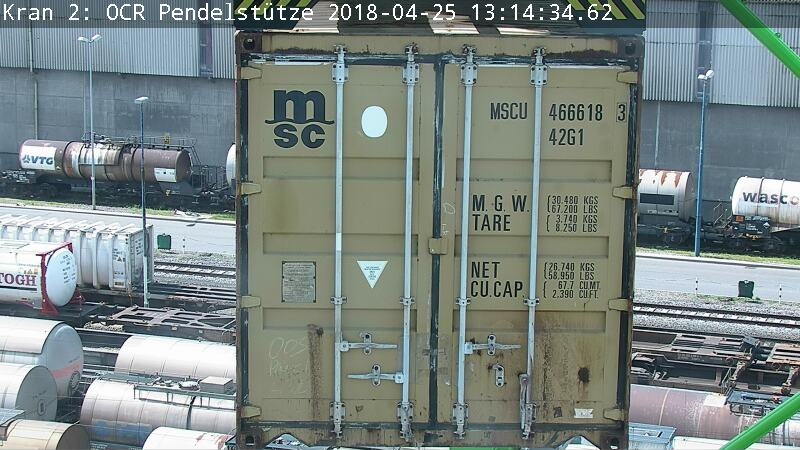container_door: (239, 25, 633, 450)
